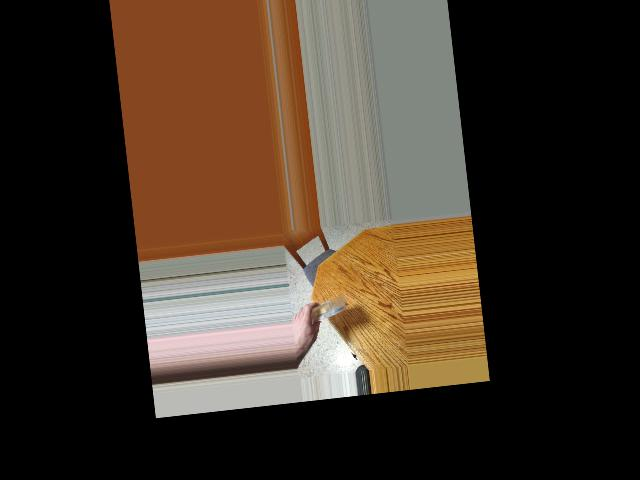cheese: (308, 292, 343, 324)
